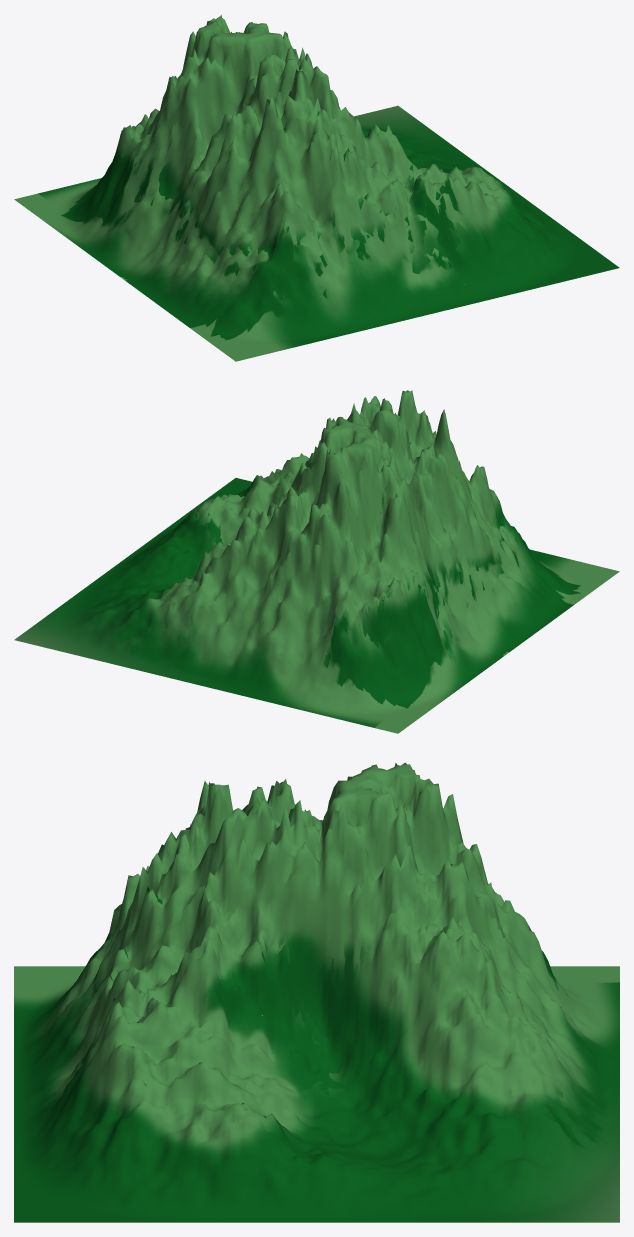
The model's file is greenhill.fbx.
3 views of the same model, one above another, from view 1: azimuth 30°, elevation 25°; view 2: azimuth 150°, elevation 25°; view 3: azimuth 270°, elevation 25° (orthographic). The views are drawn at different scales.
Parts seen in each view (by area): view 1: Landscape; view 2: Landscape; view 3: Landscape.
Part boxes in pixels (left/top/right/bottom): Landscape: left=14, top=15, right=619, bottom=361; Landscape: left=14, top=390, right=619, bottom=733; Landscape: left=14, top=762, right=619, bottom=1222.
Bounding box in the file's own units: 200 × 100 × 200.
1 material, 1 textured.
